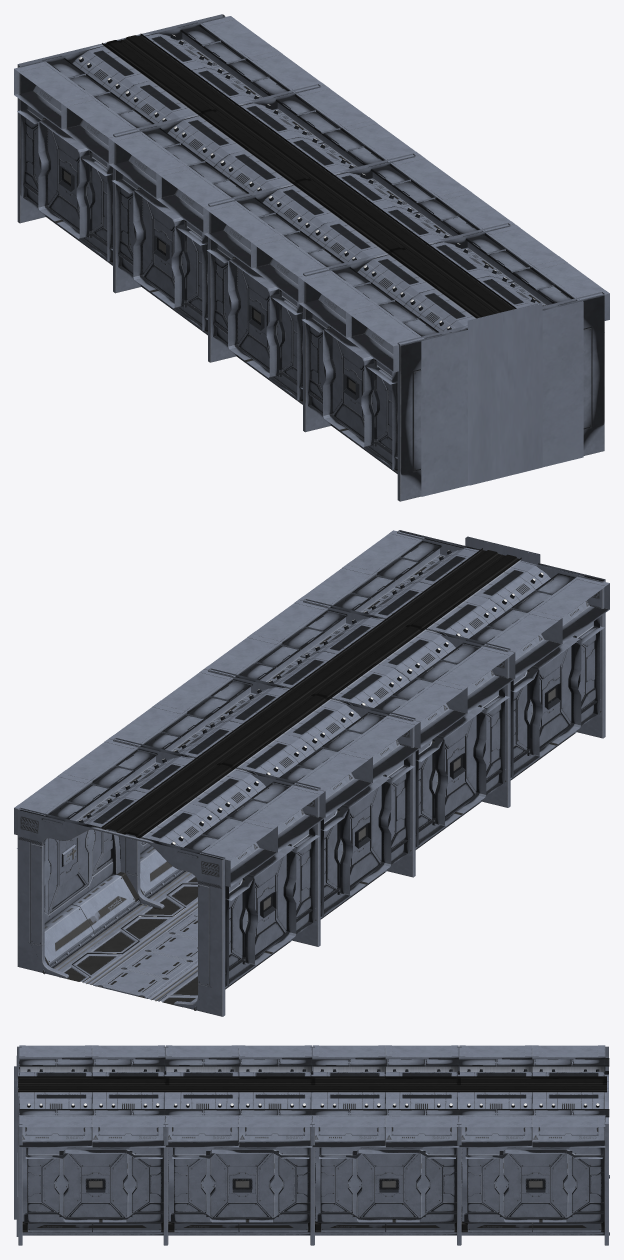
The model's file is sdf.fbx.
The picture shows the model from 3 angles, top to bottom: view 1: azimuth 30°, elevation 25°; view 2: azimuth 150°, elevation 25°; view 3: azimuth 270°, elevation 25°; orthographic projection. The views are drawn at different scales.
Parts seen in each view (by area): view 1: pCube74, pCube74.001, polySurface164, polySurface164.001, polySurface164.003, polySurface164.002, polySurface175.003, polySurface143, polySurface143.002, polySurface143.001, polySurface188.003, polySurface143.003 (+44 smaller); view 2: polySurface146, polySurface191, polySurface164, polySurface164.002, polySurface164.001, polySurface164.003, polySurface203, polySurface143.003, polySurface143, polySurface143.002, polySurface143.001, polySurface145 (+56 smaller); view 3: polySurface195.002, polySurface195.003, polySurface195, polySurface195.001, polySurface143.003, polySurface143.002, polySurface143, polySurface143.001, polySurface198, polySurface179, polySurface198.001, polySurface198.003 (+95 smaller).
Boxes of the visible parts, <box> form: pCube74: <box>421,301,583,496</box>; pCube74.001: <box>467,303,542,485</box>; polySurface164: <box>38,119,88,238</box>; polySurface164.001: <box>133,188,183,308</box>; polySurface164.003: <box>323,327,373,447</box>; polySurface164.002: <box>228,258,278,377</box>; polySurface175.003: <box>397,325,467,501</box>; polySurface143: <box>102,33,238,115</box>; polySurface143.002: <box>293,172,427,253</box>; polySurface143.001: <box>196,103,329,184</box>; polySurface188.003: <box>542,292,604,455</box>; polySurface143.003: <box>385,242,516,318</box>; polySurface146: <box>115,833,225,1016</box>; polySurface191: <box>17,807,127,978</box>; polySurface164: <box>246,845,296,965</box>; polySurface164.002: <box>436,706,486,826</box>; polySurface164.001: <box>341,776,391,895</box>; polySurface164.003: <box>531,637,581,756</box>; polySurface203: <box>44,872,139,965</box>; polySurface143.003: <box>385,548,521,630</box>; polySurface143: <box>101,755,238,838</box>; polySurface143.002: <box>290,617,427,699</box>; polySurface143.001: <box>196,689,329,768</box>; polySurface145: <box>201,819,277,886</box>; polySurface195.002: <box>210,1149,274,1222</box>; polySurface195.003: <box>63,1149,127,1222</box>; polySurface195: <box>504,1149,567,1222</box>; polySurface195.001: <box>357,1149,420,1222</box>; polySurface143.003: <box>18,1076,169,1092</box>; polySurface143.002: <box>164,1076,315,1092</box>; polySurface143: <box>456,1076,606,1092</box>; polySurface143.001: <box>310,1076,460,1092</box>; polySurface198: <box>532,1116,605,1147</box>; polySurface179: <box>459,1116,532,1147</box>; polySurface198.001: <box>385,1116,458,1147</box>; polySurface198.003: <box>92,1116,165,1147</box>.
Bounding box in the file's own units: 946 × 690 × 2915.
